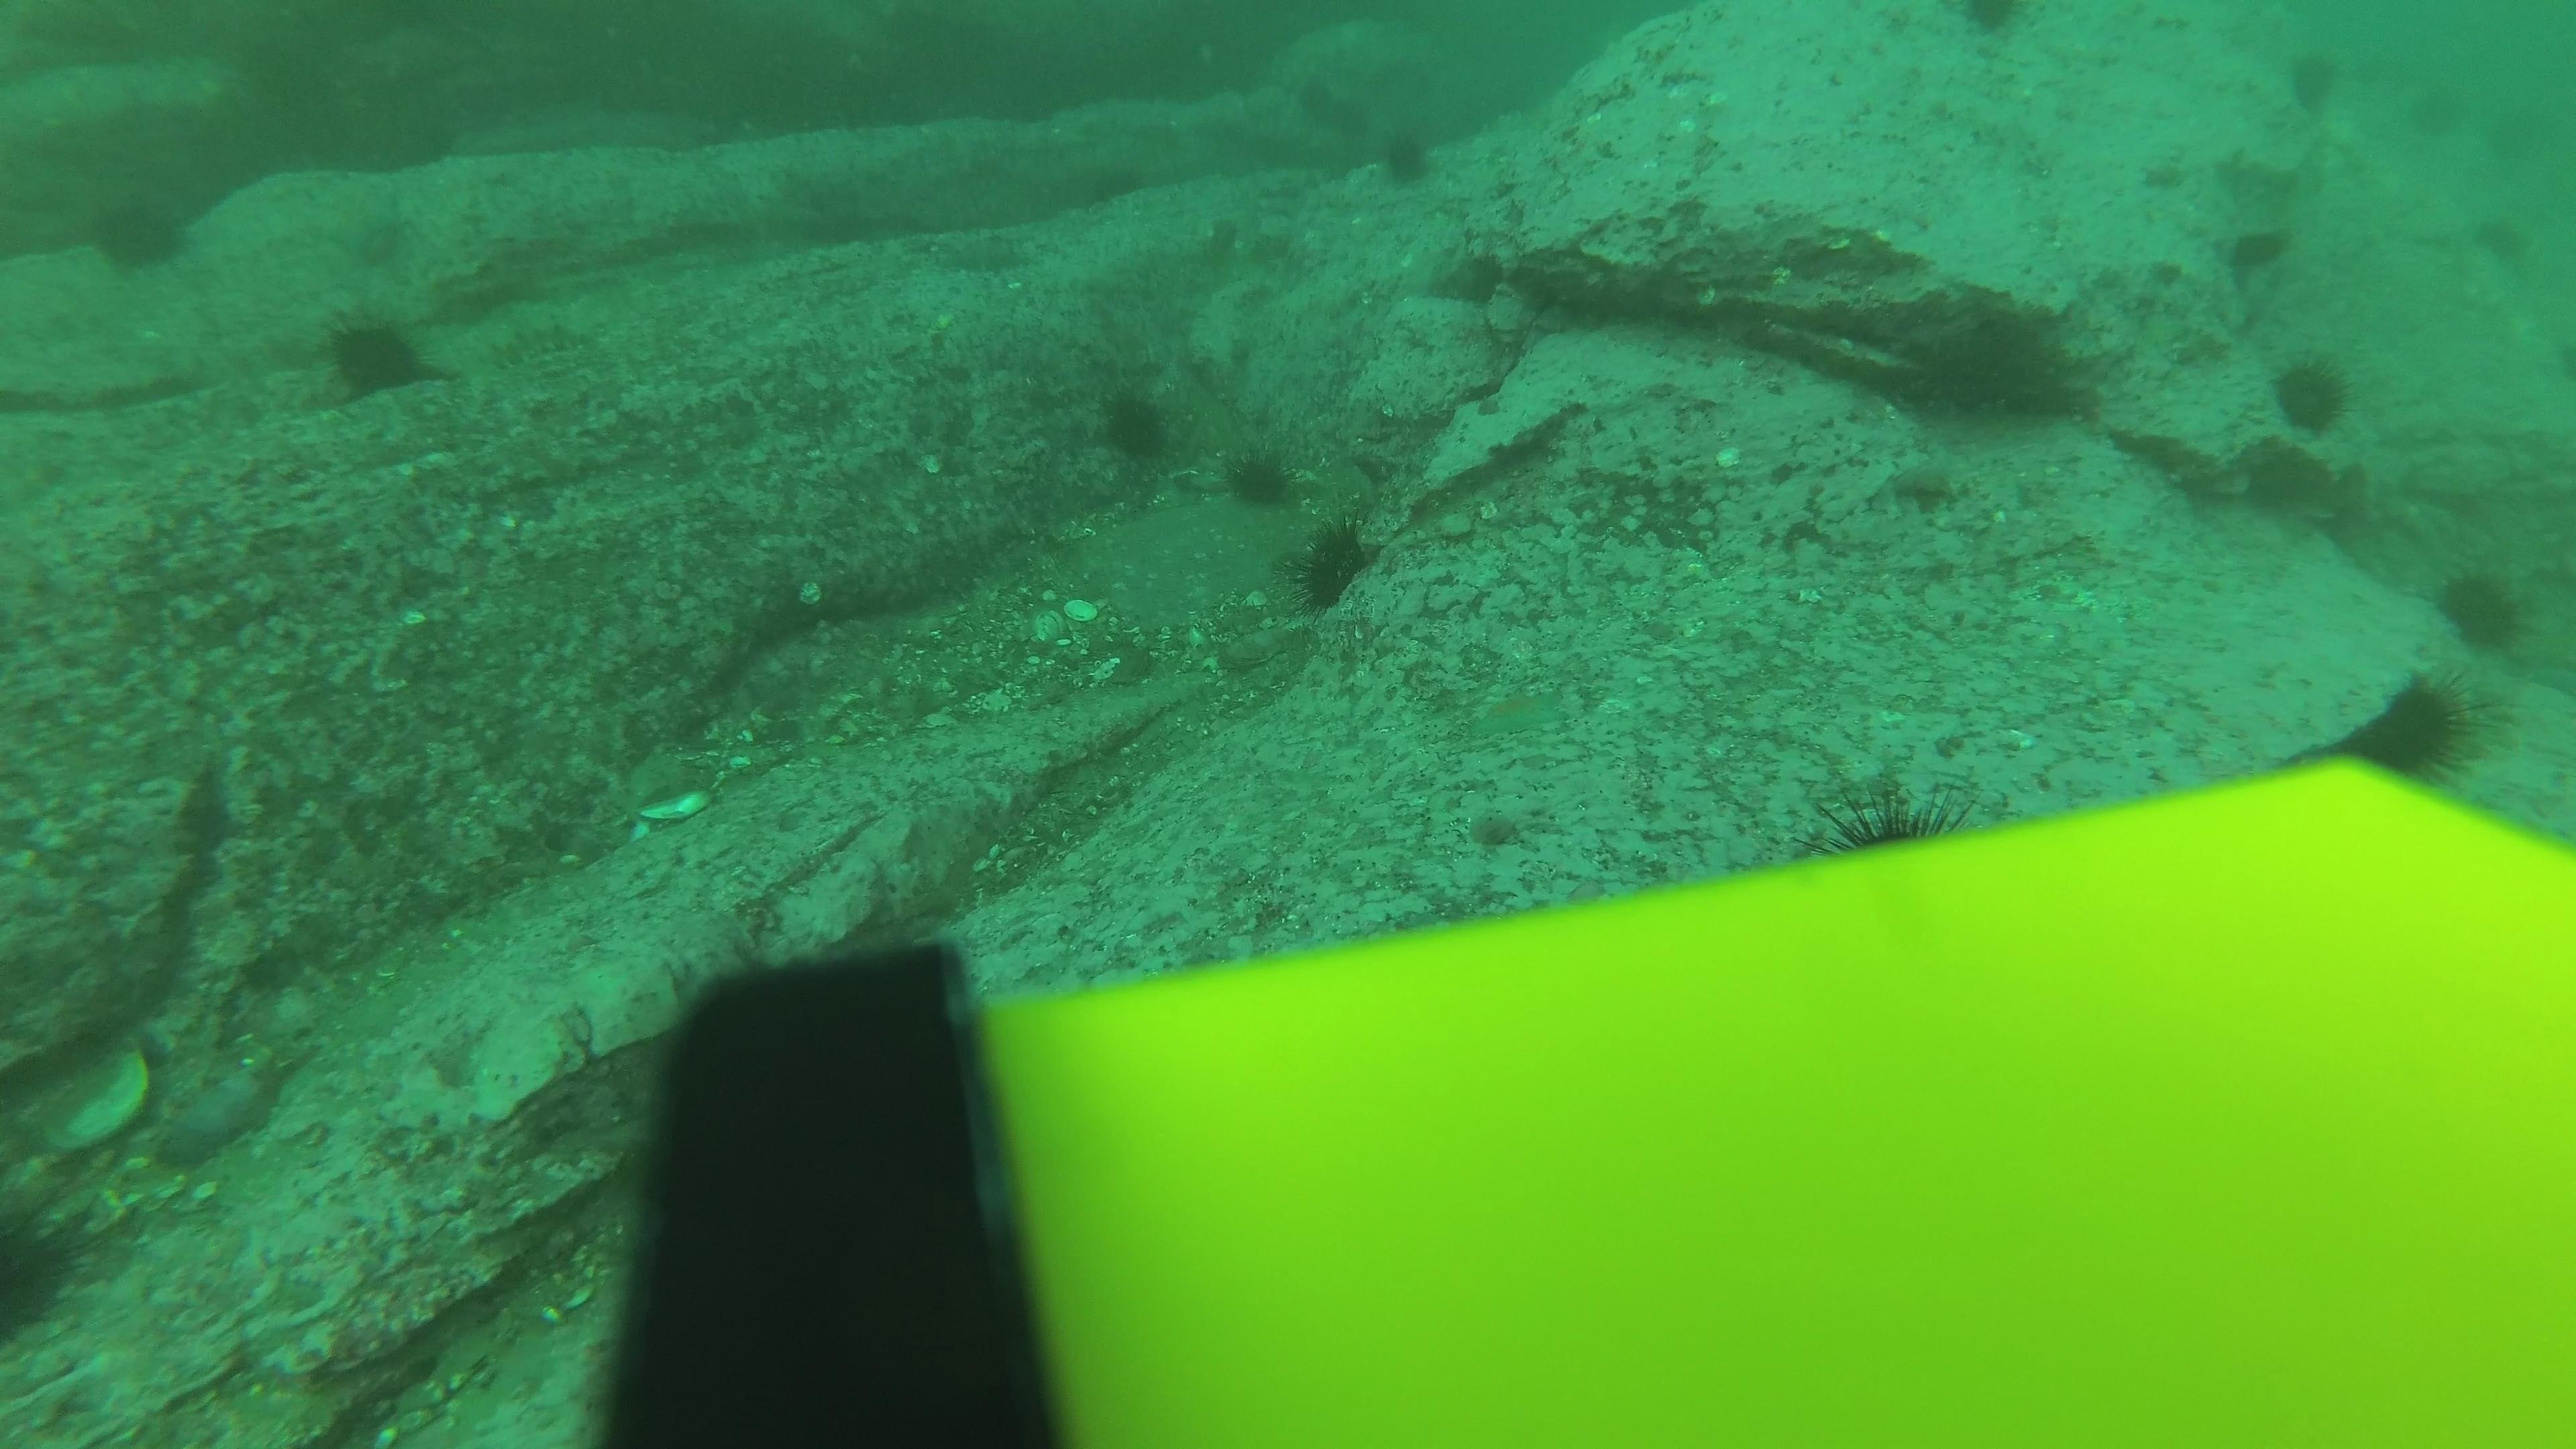echinus: (1789, 750, 2010, 904), (2332, 669, 2484, 782), (0, 1187, 92, 1346), (315, 306, 435, 403), (2427, 559, 2534, 655), (83, 186, 195, 276), (1286, 515, 1385, 616), (2263, 349, 2357, 439), (1092, 382, 1178, 467), (1221, 442, 1299, 513), (2279, 44, 2346, 117), (2411, 64, 2479, 136), (2482, 104, 2548, 177), (1371, 122, 1440, 189), (2477, 209, 2542, 280), (2220, 218, 2295, 280), (1953, 0, 2031, 41)
starfish: (147, 1042, 288, 1166), (1433, 241, 1511, 308)
